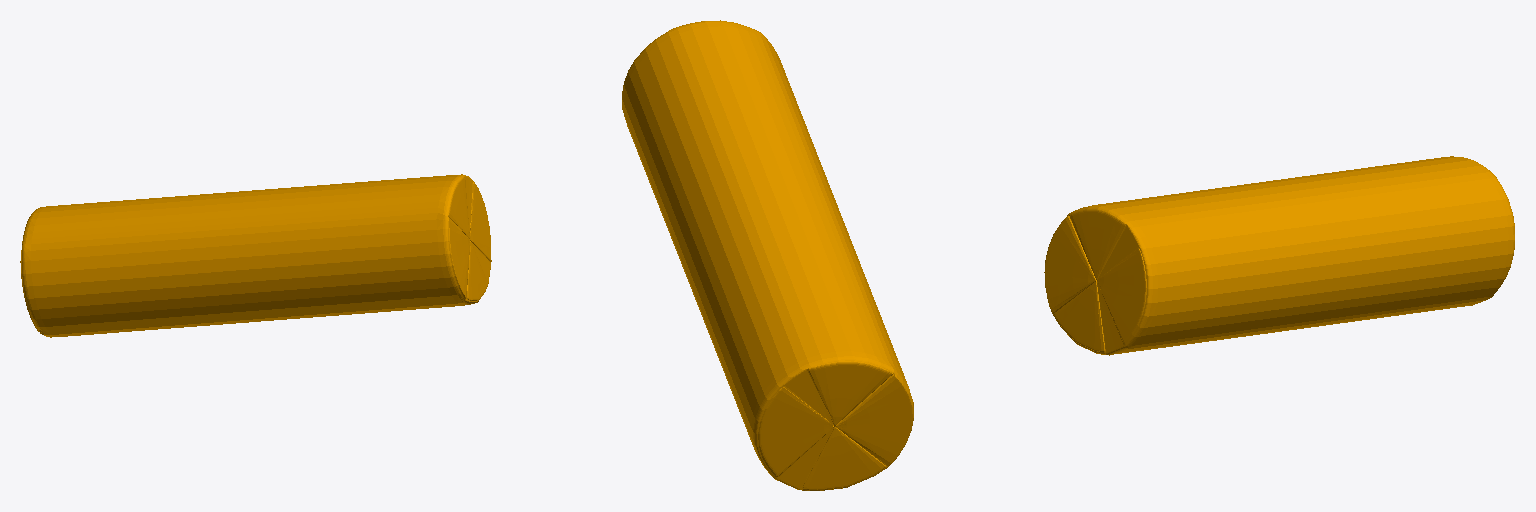
robot.urdf — biscuit3:
<?xml version="1.0"?>
<robot name="biscuit3">
  <link name="biscuit3">
    <visual>
      <origin xyz="0.0 0.0 0.0"/>
      <geometry>
        <mesh filename="biscuit.obj" scale="2 2 2"/>
      </geometry>
    </visual>
    <collision>
      <origin xyz="0.0 0.0 0.0"/>
      <geometry>
        <mesh filename="biscuit.obj" scale="2 2 2"/>
      </geometry>
    </collision>
    <inertial>
      <mass value="0.2"/>
      <inertia ixx="0.0001" ixy="0.0" ixz="0.0" iyy="0.0001" iyz="0.0" izz="0.0001"/>
    </inertial>
  </link>
</robot>

--- What the picture shows (computed from the rendered views, not written in the file) ---
Views: 3 orthographic renders of the robot side by side, from view 1: azimuth 30°, elevation 25°; view 2: azimuth 150°, elevation 25°; view 3: azimuth 270°, elevation 25°.
Model biscuit3 with 1 links and 0 joints (none), rooted at biscuit3, posed every joint at zero.
Links seen in each view (by area): view 1: biscuit3; view 2: biscuit3; view 3: biscuit3.
Link boxes in pixels (x1,y1,x2,y2): biscuit3: (20,174,491,337); biscuit3: (622,20,913,490); biscuit3: (1044,156,1514,355).
Bounding box of the posed robot: 0.3508 × 0.3599 × 0.1922 m (x, y, z).
1 mesh visuals loaded from 1 distinct referenced files (1 OBJ).
